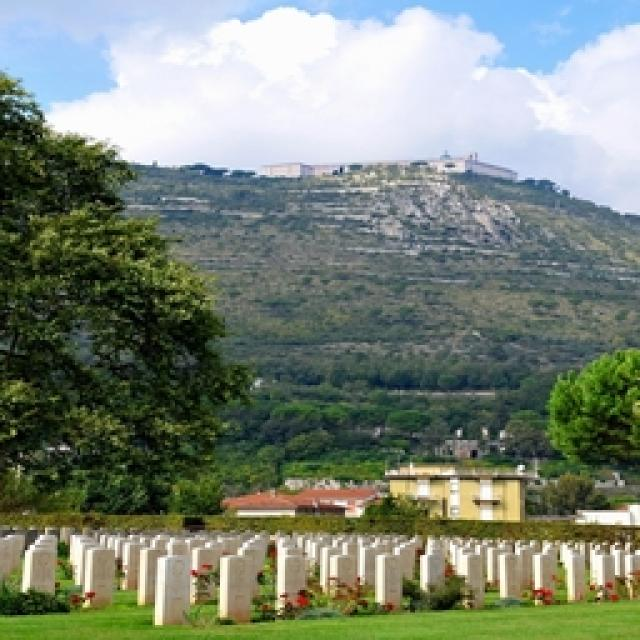Abbey: (376, 444, 560, 537)
